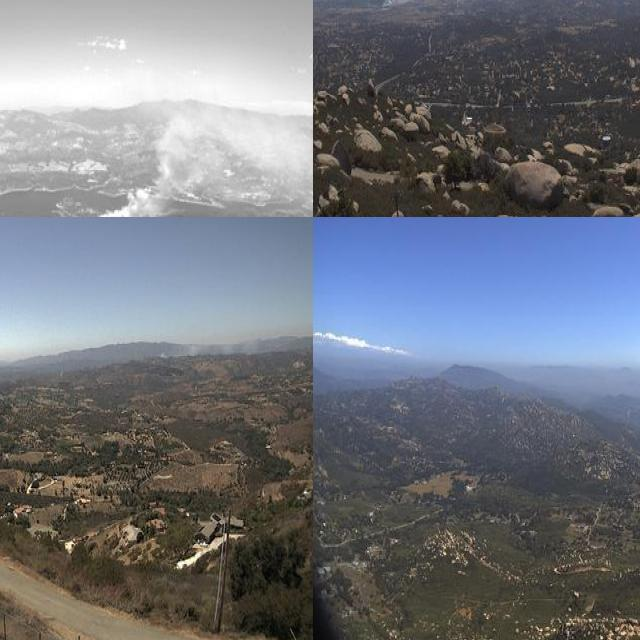smoke: (91, 100, 313, 217), (158, 332, 268, 359)
